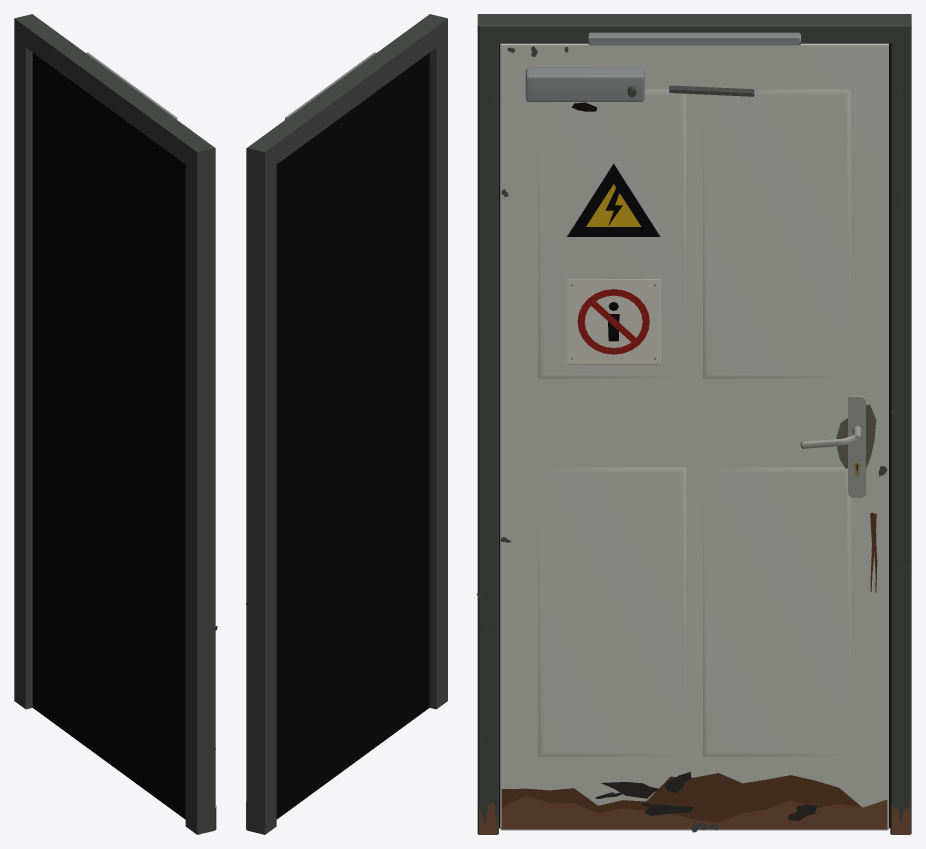
Rendered from door_steel_white.glb.
3 renders of one model, left to right at view 1: azimuth 30°, elevation 25°; view 2: azimuth 150°, elevation 25°; view 3: azimuth 270°, elevation 25°, orthographic. The views are drawn at different scales.
Visible parts, largest first — view 1: tuer_white1, tuer_white0; view 2: tuer_white1, tuer_white0; view 3: tuer_white2, tuer_white0, tuer_white14, tuer_white15, tuer_white7, tuer_white11, tuer_white1, tuer_white3, tuer_white12, tuer_white16, tuer_white8, tuer_white10 (+1 smaller).
Boxes of the visible parts, x1=… form: tuer_white1: x1=32, y1=53, x2=185, y2=819; tuer_white0: x1=14, y1=14, x2=215, y2=834; tuer_white1: x1=276, y1=53, x2=429, y2=819; tuer_white0: x1=246, y1=14, x2=447, y2=834; tuer_white2: x1=500, y1=43, x2=888, y2=830; tuer_white0: x1=477, y1=14, x2=911, y2=834; tuer_white14: x1=479, y1=795, x2=910, y2=834; tuer_white15: x1=501, y1=513, x2=877, y2=822; tuer_white7: x1=525, y1=32, x2=800, y2=101; tuer_white11: x1=567, y1=279, x2=660, y2=364; tuer_white1: x1=499, y1=43, x2=890, y2=828; tuer_white3: x1=800, y1=395, x2=865, y2=497; tuer_white12: x1=577, y1=289, x2=649, y2=354; tuer_white16: x1=595, y1=772, x2=816, y2=820; tuer_white8: x1=476, y1=46, x2=909, y2=832; tuer_white10: x1=586, y1=184, x2=641, y2=226.
Size of the model in its own units: 0.131 by 2.1 by 1.02.
